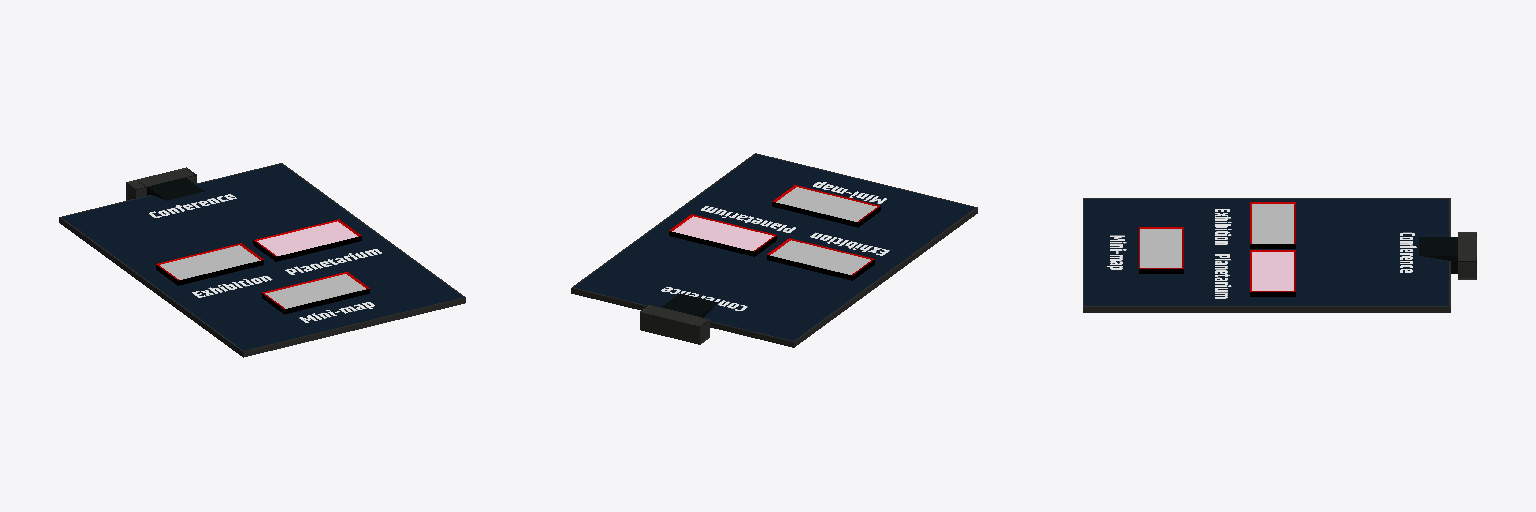
3 renders of one model, left to right at view 1: azimuth 30°, elevation 25°; view 2: azimuth 150°, elevation 25°; view 3: azimuth 270°, elevation 25°, orthographic.
Parts seen in each view (by area): view 1: clipboard_CR; view 2: clipboard_CR; view 3: clipboard_CR.
Part boxes in pixels (x1,y1,x2,y2): clipboard_CR: (59, 163, 465, 357); clipboard_CR: (571, 153, 977, 347); clipboard_CR: (1083, 198, 1476, 312).
Size of the model in its own units: 0.2144 by 0.0169 by 0.3289.
Materials: 13 (1 with a texture image).